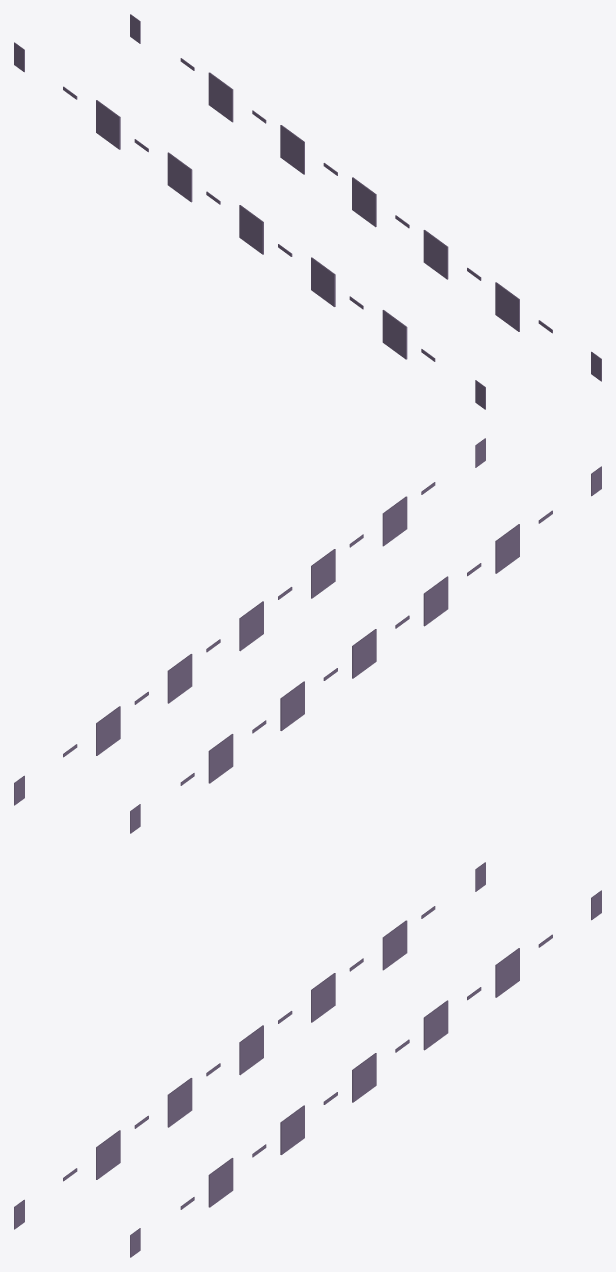
The model's file is SM_Vagon_Cercano_v1_LOD1.fbx.
3 views of the same model, one above another, from view 1: azimuth 30°, elevation 25°; view 2: azimuth 150°, elevation 25°; view 3: azimuth 330°, elevation 25° (orthographic).
Parts seen in each view (by area): view 1: Ventanillas; view 2: Ventanillas; view 3: Ventanillas.
Boxes of the visible parts, x1,y1,x2,y2 form: Ventanillas: [14, 14, 601, 409]; Ventanillas: [14, 438, 601, 833]; Ventanillas: [14, 862, 601, 1257].
Size of what is drawn, in the model's own units: 3.05 by 0.8 by 21.05.
